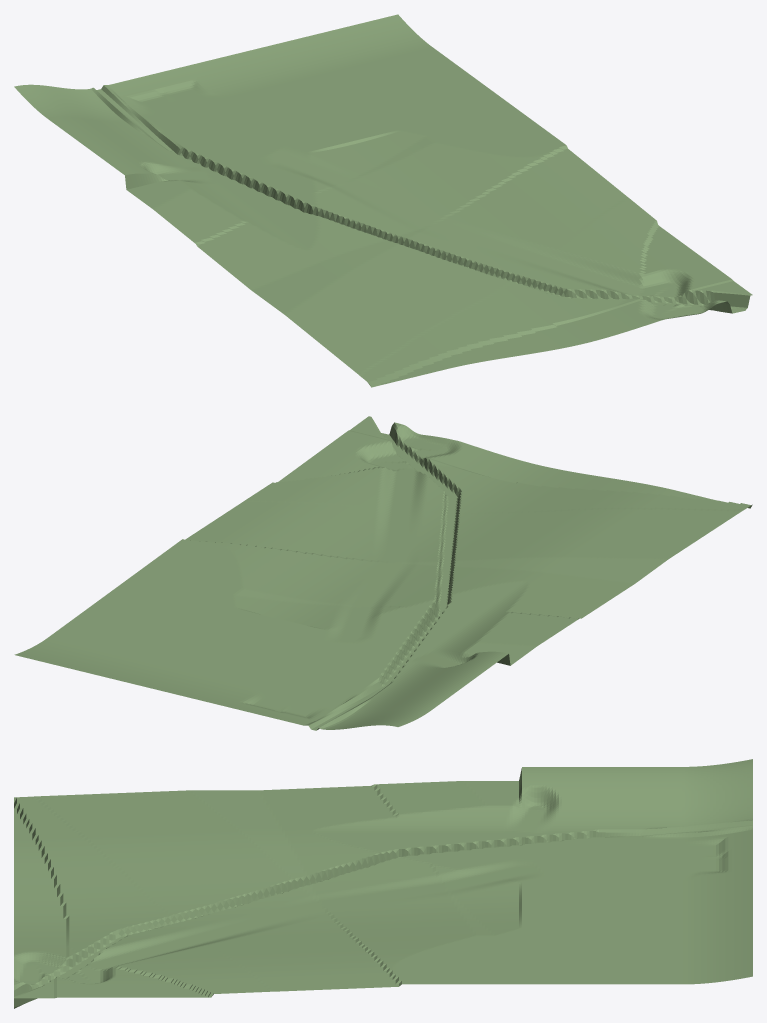
File: ranch_terrain.glb
3 views of the same model, one above another, from view 1: azimuth 30°, elevation 25°; view 2: azimuth 150°, elevation 25°; view 3: azimuth 270°, elevation 25° (orthographic). The views are drawn at different scales.
Parts seen in each view (by area): view 1: ranch_tile_120_192-col, ranch_tile_048_000-col, ranch_tile_120_000-col, ranch_tile_096_000-col, ranch_tile_072_000-col, ranch_tile_096_168-col, ranch_tile_000_216-col, ranch_tile_096_120-col, ranch_tile_096_144-col, ranch_tile_120_216-col, ranch_tile_096_096-col, ranch_tile_024_000-col (+50 smaller); view 2: ranch_tile_120_216-col, ranch_tile_096_216-col, ranch_tile_048_024-col, ranch_tile_120_024-col, ranch_tile_120_072-col, ranch_tile_072_024-col, ranch_tile_072_048-col, ranch_tile_096_024-col, ranch_tile_096_048-col, ranch_tile_120_048-col, ranch_tile_048_048-col, ranch_tile_096_072-col (+52 smaller); view 3: ranch_tile_000_048-col, ranch_tile_000_000-col, ranch_tile_000_024-col, ranch_tile_048_144-col, ranch_tile_000_072-col, ranch_tile_048_168-col, ranch_tile_024_096-col, ranch_tile_048_192-col, ranch_tile_048_120-col, ranch_tile_048_216-col, ranch_tile_024_000-col, ranch_tile_024_024-col (+58 smaller).
Part boxes in pixels (x1=…): ranch_tile_120_192-col: x1=605, y1=246, x2=701, y2=294; ranch_tile_048_000-col: x1=137, y1=63, x2=233, y2=111; ranch_tile_120_000-col: x1=321, y1=18, x2=417, y2=66; ranch_tile_096_000-col: x1=260, y1=33, x2=356, y2=81; ranch_tile_072_000-col: x1=198, y1=48, x2=294, y2=96; ranch_tile_096_168-col: x1=508, y1=231, x2=604, y2=278; ranch_tile_000_216-col: x1=334, y1=341, x2=429, y2=387; ranch_tile_096_120-col: x1=437, y1=173, x2=533, y2=220; ranch_tile_096_144-col: x1=473, y1=203, x2=569, y2=250; ranch_tile_120_216-col: x1=641, y1=272, x2=737, y2=317; ranch_tile_096_096-col: x1=402, y1=144, x2=498, y2=191; ranch_tile_024_000-col: x1=76, y1=78, x2=171, y2=122; ranch_tile_120_216-col: x1=349, y1=422, x2=445, y2=468; ranch_tile_096_216-col: x1=410, y1=438, x2=506, y2=480; ranch_tile_048_024-col: x1=249, y1=659, x2=345, y2=700; ranch_tile_120_024-col: x1=65, y1=614, x2=161, y2=654; ranch_tile_120_072-col: x1=136, y1=562, x2=232, y2=603; ranch_tile_072_024-col: x1=188, y1=644, x2=284, y2=684; ranch_tile_072_048-col: x1=223, y1=618, x2=319, y2=659; ranch_tile_096_024-col: x1=126, y1=629, x2=222, y2=670; ranch_tile_096_048-col: x1=162, y1=603, x2=258, y2=643; ranch_tile_120_048-col: x1=101, y1=588, x2=196, y2=629; ranch_tile_048_048-col: x1=285, y1=633, x2=380, y2=673; ranch_tile_096_072-col: x1=198, y1=577, x2=293, y2=618; ranch_tile_000_048-col: x1=531, y1=767, x2=605, y2=818; ranch_tile_000_000-col: x1=679, y1=759, x2=752, y2=816; ranch_tile_000_024-col: x1=605, y1=767, x2=678, y2=816; ranch_tile_048_144-col: x1=235, y1=854, x2=309, y2=900; ranch_tile_000_072-col: x1=457, y1=767, x2=531, y2=818; ranch_tile_048_168-col: x1=161, y1=856, x2=235, y2=896; ranch_tile_024_096-col: x1=383, y1=816, x2=457, y2=859; ranch_tile_048_192-col: x1=88, y1=859, x2=161, y2=899; ranch_tile_048_120-col: x1=309, y1=851, x2=383, y2=891; ranch_tile_048_216-col: x1=14, y1=862, x2=87, y2=903; ranch_tile_024_000-col: x1=679, y1=808, x2=752, y2=851; ranch_tile_024_024-col: x1=605, y1=816, x2=678, y2=851.
Size of the model in its own units: 150 by 20.99 by 240.
